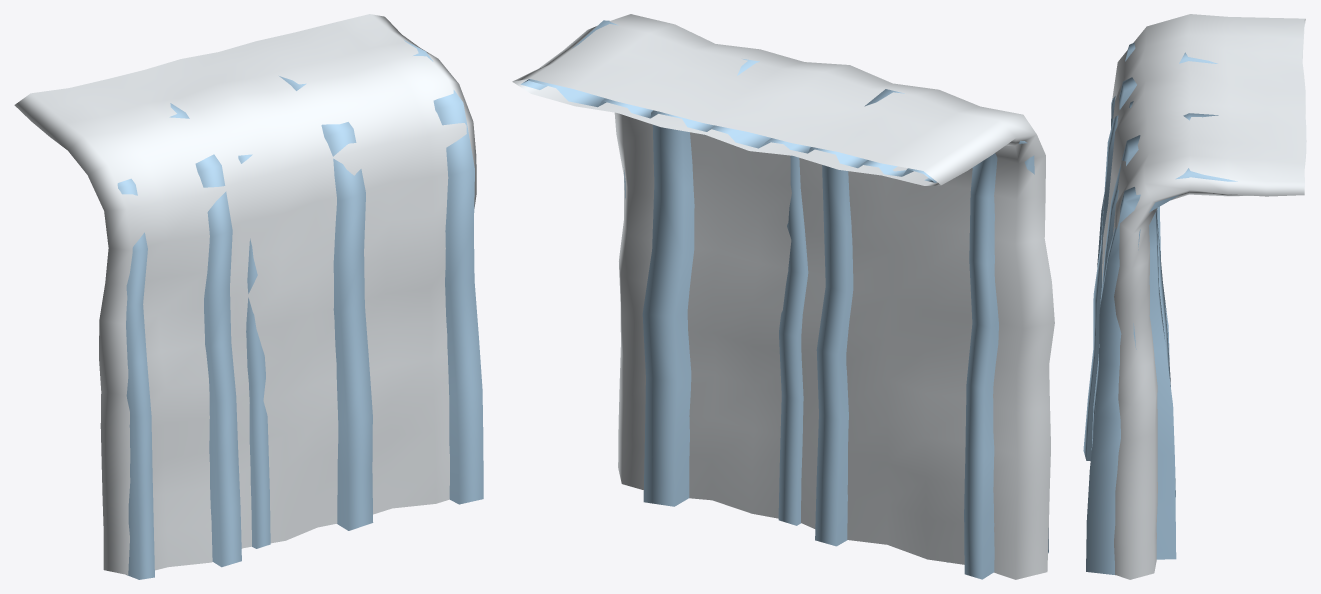
File: pobu_001.FBX
The picture shows the model from 3 angles, left to right: view 1: azimuth 30°, elevation 25°; view 2: azimuth 150°, elevation 25°; view 3: azimuth 270°, elevation 25°; orthographic projection. The views are drawn at different scales.
Visible parts, largest first — view 1: Waterfall 03; view 2: Waterfall 03; view 3: Waterfall 03.
Part boxes in pixels (bbox=[...]): Waterfall 03: bbox=[14, 14, 483, 579]; Waterfall 03: bbox=[512, 14, 1054, 579]; Waterfall 03: bbox=[1083, 14, 1306, 579].
Size of the model in its own units: 47.71 by 50.14 by 25.14.
